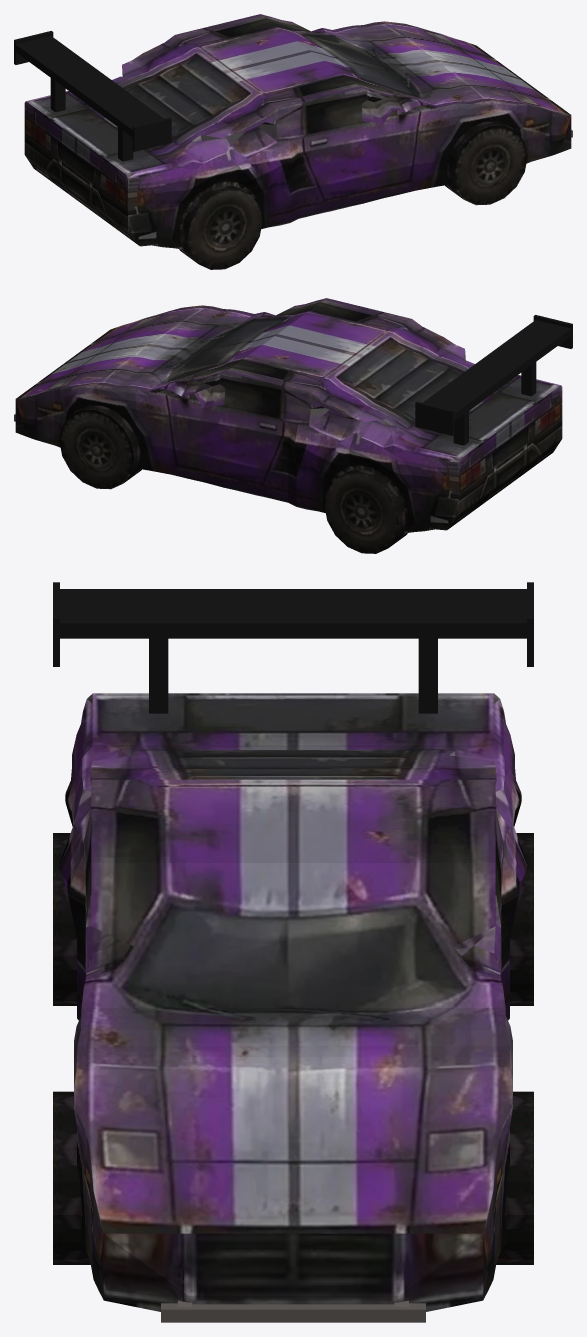
Rendered from viper.glb.
3 views of the same model, one above another, from view 1: azimuth 30°, elevation 25°; view 2: azimuth 150°, elevation 25°; view 3: azimuth 270°, elevation 25° (orthographic). The views are drawn at different scales.
Parts seen in each view (by area): view 1: viper; view 2: viper; view 3: viper.
Part boxes in pixels (<box>): viper: <box>14,14,572,269</box>; viper: <box>14,298,572,553</box>; viper: <box>53,582,533,1322</box>.
Size of the model in its own units: 4.47 by 1.5 by 2.
1 material, 1 textured.
